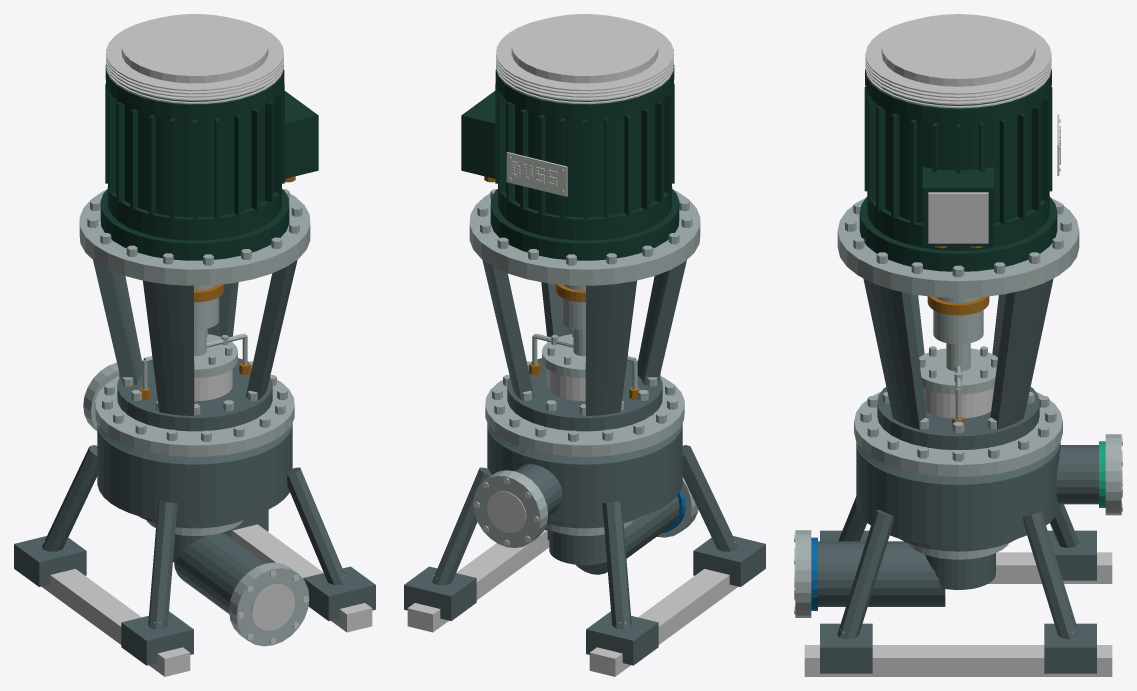
The model's file is compact.obj.
3 renders of one model, left to right at view 1: azimuth 30°, elevation 25°; view 2: azimuth 150°, elevation 25°; view 3: azimuth 270°, elevation 25°, orthographic. The views are drawn at different scales.
Bounding box in the file's own units: 0.391 × 0.9 × 0.4646.
